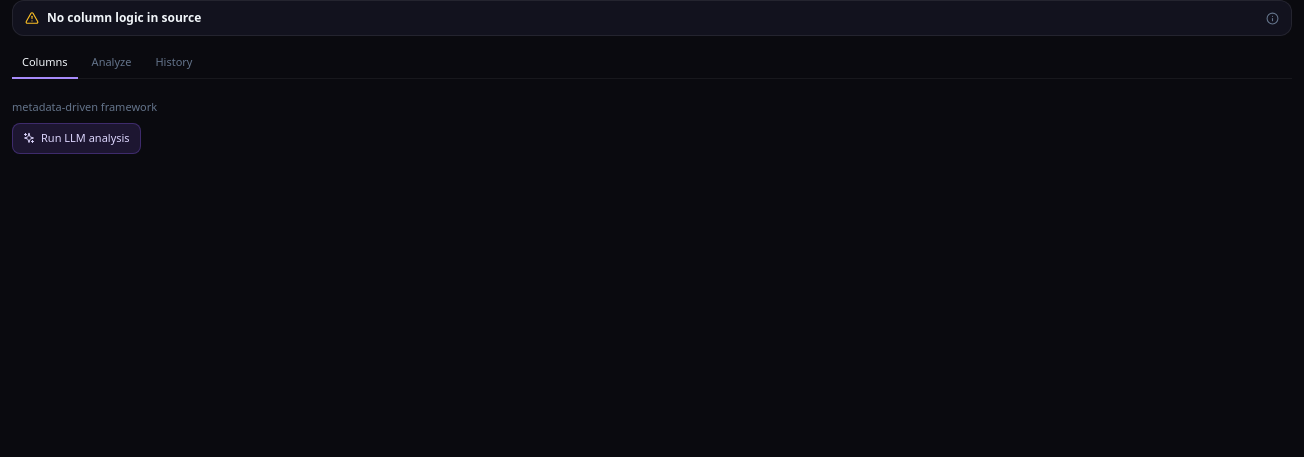
Test: ColumnTransformationPanel › runs deep framework analysis and streams a commentary log
Click the tab "Analyze". click: (112, 63)
box: [82,48,141,78]
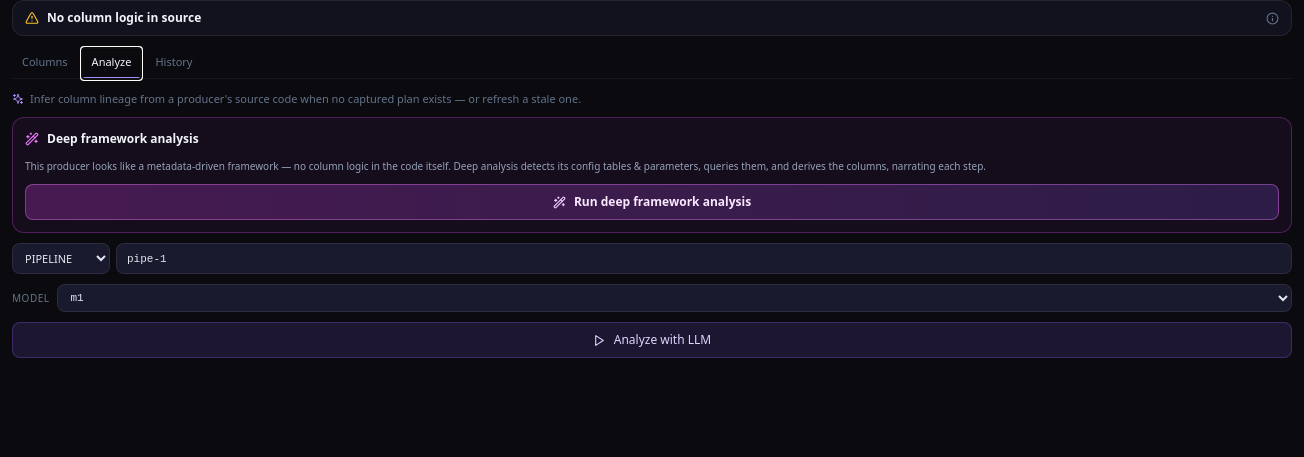
Click the button "Run deep framework analysis". click: (652, 202)
box: [25,184,1279,220]
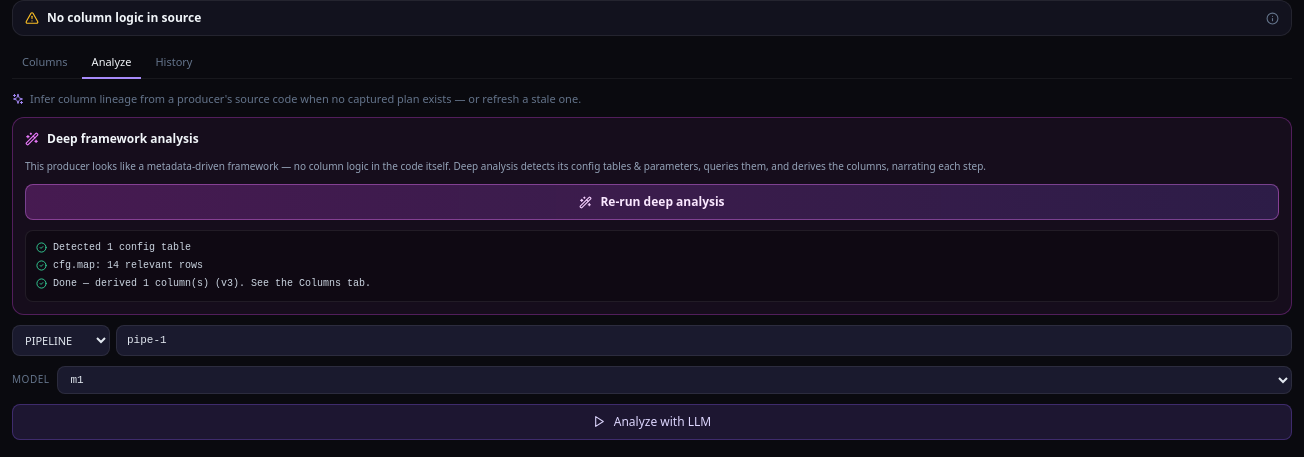
Expected: the text "Detected 1 config table" is shown, [53,241,191,255]
Expected: the text "cfg.map: 14 relevant rows" is shown, [53,259,203,273]
Expected: the text "Done — derived 1 column(s) (v3). See the Columns tab." is shown, [53,277,371,291]
